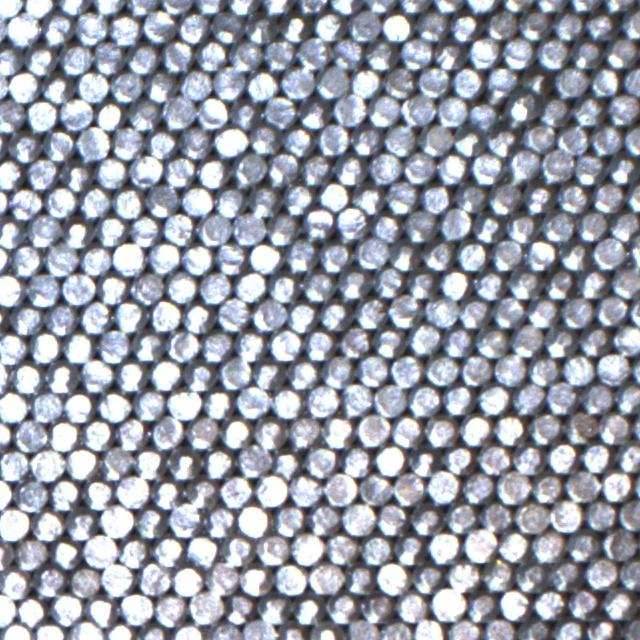tool: (459, 469, 494, 504), (462, 527, 497, 562), (43, 242, 78, 276), (444, 499, 478, 534), (218, 472, 252, 507), (584, 554, 618, 589), (479, 500, 514, 534), (14, 536, 48, 570), (232, 152, 266, 186), (548, 498, 582, 532), (409, 502, 443, 536), (540, 148, 574, 182), (44, 302, 78, 336), (496, 469, 530, 503), (510, 381, 544, 415), (566, 528, 600, 562), (341, 501, 375, 535), (216, 297, 250, 331), (82, 533, 116, 567), (331, 92, 365, 126), (407, 382, 441, 416), (602, 526, 636, 560), (96, 328, 130, 362), (290, 530, 324, 564), (565, 468, 599, 502), (488, 180, 522, 214), (254, 532, 288, 566), (484, 6, 518, 40), (459, 412, 493, 446), (136, 561, 170, 595), (80, 357, 114, 391), (338, 382, 372, 416), (238, 562, 272, 596), (424, 413, 458, 447), (178, 125, 212, 159), (159, 38, 193, 72), (388, 293, 422, 327), (100, 562, 134, 596), (314, 64, 348, 98), (531, 528, 565, 562), (304, 384, 338, 418), (355, 412, 389, 446), (336, 266, 370, 300), (601, 586, 635, 620), (390, 413, 424, 447), (564, 408, 598, 442), (398, 36, 432, 70), (182, 359, 216, 393), (430, 586, 464, 620), (204, 560, 238, 594), (99, 503, 133, 537), (255, 472, 288, 507), (425, 352, 458, 387), (476, 441, 511, 474), (472, 267, 505, 301), (561, 352, 594, 386), (323, 471, 356, 505), (442, 382, 475, 416), (544, 380, 578, 413), (306, 502, 340, 535), (400, 92, 433, 126), (78, 300, 112, 333), (358, 533, 392, 566), (237, 503, 270, 537), (145, 126, 178, 160), (446, 558, 479, 592), (522, 118, 555, 152), (272, 503, 305, 537), (62, 271, 95, 305), (324, 530, 357, 564), (476, 381, 509, 415), (320, 354, 353, 388), (30, 446, 63, 480), (273, 561, 307, 594), (598, 411, 632, 444), (15, 478, 48, 512), (338, 325, 372, 358), (525, 295, 558, 329), (308, 561, 342, 594), (390, 353, 423, 387), (347, 66, 381, 99), (233, 329, 267, 362), (541, 208, 574, 242), (143, 69, 177, 102), (334, 207, 368, 240), (573, 151, 606, 185), (528, 410, 561, 444), (599, 467, 632, 501), (198, 270, 231, 304), (359, 590, 393, 623), (357, 472, 391, 505), (110, 125, 143, 159), (384, 180, 418, 213), (29, 388, 62, 422), (285, 357, 319, 390), (132, 446, 165, 480), (266, 212, 300, 245), (148, 299, 182, 332), (548, 557, 581, 591), (98, 445, 131, 479), (565, 585, 599, 618), (13, 418, 46, 452), (166, 446, 199, 480), (366, 93, 399, 127), (527, 353, 560, 387), (8, 187, 42, 220), (199, 328, 232, 362), (583, 497, 617, 530), (48, 477, 81, 511), (132, 387, 166, 420), (372, 264, 405, 298), (128, 153, 162, 186), (301, 268, 334, 302), (373, 442, 407, 475), (402, 150, 435, 184), (44, 360, 78, 393), (427, 528, 460, 562), (125, 40, 158, 74), (252, 298, 285, 332), (339, 444, 373, 477), (467, 35, 501, 68), (354, 235, 388, 268), (284, 239, 317, 273), (76, 125, 109, 159), (464, 588, 497, 622), (26, 213, 59, 247), (252, 416, 286, 449), (409, 560, 444, 592), (511, 324, 544, 357), (116, 474, 149, 507), (494, 412, 527, 445), (373, 382, 406, 415), (459, 353, 492, 386), (470, 151, 503, 184), (95, 271, 128, 304), (270, 385, 303, 418), (130, 270, 163, 303), (560, 295, 593, 328), (10, 303, 43, 336), (195, 95, 228, 128), (218, 356, 251, 389), (384, 122, 417, 155), (575, 267, 608, 300), (167, 387, 200, 420), (270, 446, 303, 479), (165, 270, 198, 303), (67, 564, 100, 597), (596, 352, 629, 385), (368, 151, 401, 184), (133, 506, 166, 539), (571, 93, 604, 126), (131, 330, 164, 363), (31, 509, 64, 542), (196, 155, 229, 188), (185, 533, 218, 566), (59, 97, 92, 130), (115, 359, 148, 392), (236, 384, 269, 417), (419, 181, 452, 214), (263, 95, 296, 128), (142, 9, 175, 42), (91, 40, 124, 73), (9, 243, 42, 276), (267, 270, 300, 303), (11, 361, 44, 394), (591, 180, 624, 213), (42, 128, 75, 161), (266, 152, 299, 185), (170, 564, 203, 597), (28, 330, 61, 363), (393, 533, 426, 566), (587, 65, 620, 98), (113, 299, 146, 332), (247, 184, 280, 217), (375, 502, 408, 535), (220, 533, 253, 566), (194, 38, 227, 71), (237, 443, 270, 476), (319, 298, 352, 331), (64, 508, 97, 541), (119, 591, 152, 624), (94, 213, 127, 246), (356, 353, 389, 386), (32, 564, 65, 597), (178, 67, 211, 100), (190, 590, 223, 623), (403, 209, 436, 242), (112, 241, 145, 274), (184, 477, 217, 510), (491, 295, 524, 328), (6, 130, 39, 163), (579, 381, 612, 414), (80, 417, 113, 450), (203, 505, 236, 538), (536, 36, 569, 69), (248, 240, 281, 273), (147, 240, 180, 273), (491, 237, 524, 270), (507, 267, 540, 300), (61, 157, 94, 190), (481, 557, 514, 590), (580, 439, 613, 472), (26, 273, 59, 306), (214, 241, 247, 274), (558, 237, 591, 270), (127, 98, 160, 131), (304, 444, 337, 477), (506, 148, 539, 181), (319, 239, 352, 272), (25, 156, 58, 189), (115, 416, 148, 449), (607, 151, 640, 184), (512, 442, 545, 475), (503, 93, 536, 126), (150, 415, 183, 448), (85, 593, 118, 626), (202, 445, 235, 478), (82, 477, 116, 509), (516, 499, 548, 533), (498, 528, 530, 562), (166, 328, 198, 362), (94, 98, 126, 132), (374, 325, 406, 359), (420, 122, 452, 156), (544, 324, 576, 358), (476, 324, 508, 358), (376, 560, 408, 594), (162, 94, 194, 128), (214, 124, 246, 158), (149, 357, 181, 391), (95, 154, 127, 188), (424, 294, 458, 326), (392, 471, 424, 505), (322, 414, 354, 448), (118, 534, 150, 568), (62, 390, 96, 422), (425, 470, 459, 502), (288, 414, 320, 448), (354, 296, 388, 328), (586, 8, 618, 42), (438, 208, 472, 240), (514, 558, 546, 592), (520, 64, 554, 96), (151, 533, 183, 567), (46, 418, 80, 450), (257, 593, 291, 625), (608, 208, 640, 242), (303, 327, 335, 361), (48, 592, 82, 624), (364, 38, 398, 70), (278, 12, 312, 44), (408, 322, 440, 355), (435, 94, 467, 127), (498, 586, 530, 619), (58, 42, 91, 74), (269, 327, 301, 360), (552, 9, 585, 41), (395, 589, 427, 622), (167, 504, 200, 536), (317, 180, 350, 212), (7, 70, 40, 102), (317, 122, 349, 155), (246, 68, 278, 101), (65, 446, 97, 479), (577, 324, 610, 356), (538, 95, 570, 128), (248, 123, 280, 156), (233, 270, 266, 302), (494, 352, 526, 385), (297, 98, 330, 130), (146, 183, 179, 215), (440, 267, 472, 300), (590, 122, 622, 155), (299, 153, 331, 186), (62, 331, 94, 364), (198, 212, 230, 245), (435, 152, 468, 184), (288, 474, 321, 506), (182, 302, 215, 334), (110, 68, 142, 101), (484, 66, 516, 99), (180, 183, 213, 215), (41, 72, 74, 104), (468, 97, 500, 130), (442, 324, 474, 357), (457, 296, 490, 328), (417, 65, 449, 98), (450, 65, 482, 98), (575, 209, 608, 241), (214, 185, 246, 218), (369, 210, 402, 242), (232, 211, 264, 244), (333, 154, 366, 186), (416, 9, 448, 42), (344, 563, 376, 596), (213, 65, 245, 98), (546, 440, 578, 473), (312, 9, 345, 41), (163, 212, 196, 244), (381, 9, 413, 42), (501, 36, 534, 68), (282, 181, 314, 214), (280, 66, 312, 99), (112, 186, 145, 218), (449, 10, 482, 42), (296, 37, 328, 70), (6, 12, 38, 45), (49, 536, 81, 569), (78, 185, 110, 218), (522, 182, 555, 214), (556, 123, 589, 155), (406, 268, 439, 300), (331, 36, 363, 69), (524, 238, 557, 270), (74, 11, 106, 44), (570, 37, 602, 70), (543, 266, 575, 299), (604, 36, 637, 68), (202, 387, 234, 420), (212, 10, 244, 43), (128, 213, 160, 246), (422, 238, 455, 270), (154, 592, 186, 625), (302, 207, 334, 240), (532, 586, 564, 619), (14, 593, 46, 626), (606, 92, 638, 125), (108, 12, 140, 45), (41, 12, 73, 45), (556, 180, 588, 213), (228, 39, 260, 72), (389, 239, 422, 271), (177, 10, 210, 42), (432, 39, 465, 71), (456, 237, 488, 270), (25, 98, 57, 131), (262, 38, 295, 70), (442, 442, 474, 475), (252, 357, 284, 390), (505, 210, 537, 243), (24, 43, 56, 76), (61, 216, 94, 248), (454, 180, 486, 213), (519, 8, 551, 40), (282, 124, 314, 156), (350, 124, 382, 156), (44, 185, 76, 217), (348, 9, 380, 41), (98, 389, 130, 421), (286, 300, 318, 332), (163, 156, 195, 188), (79, 243, 111, 275), (181, 242, 213, 274), (595, 294, 627, 326), (594, 236, 626, 268), (382, 66, 414, 98), (554, 66, 586, 98), (220, 416, 252, 448), (352, 182, 384, 214), (472, 212, 504, 244), (407, 445, 439, 477), (223, 592, 255, 624), (292, 593, 324, 625), (150, 477, 182, 509), (186, 416, 218, 448), (76, 70, 108, 102), (326, 592, 358, 624), (531, 470, 563, 502), (228, 97, 260, 129), (486, 125, 519, 156), (0, 506, 29, 541), (453, 125, 484, 157), (244, 13, 276, 44), (611, 263, 640, 297), (0, 566, 30, 598), (612, 322, 640, 356), (0, 448, 29, 480), (0, 389, 28, 422), (613, 381, 640, 414), (0, 332, 27, 364), (0, 216, 26, 249), (0, 99, 25, 133), (583, 615, 617, 640), (615, 439, 640, 472), (516, 616, 550, 640), (412, 616, 446, 640), (0, 272, 24, 305), (0, 156, 23, 190), (344, 617, 378, 640), (550, 617, 584, 640), (378, 617, 412, 640), (482, 616, 514, 640), (447, 617, 480, 640), (618, 497, 640, 531), (618, 555, 640, 589), (67, 619, 102, 640), (0, 43, 22, 76), (242, 618, 275, 640), (206, 620, 240, 640), (170, 621, 204, 640), (621, 6, 640, 40), (32, 621, 66, 640), (136, 622, 170, 640), (102, 622, 136, 640), (308, 621, 340, 640), (276, 621, 308, 640), (22, 0, 54, 18), (0, 622, 32, 640), (623, 122, 640, 155), (623, 64, 640, 96), (226, 0, 259, 16), (260, 0, 294, 15), (0, 592, 15, 626), (625, 179, 640, 212), (56, 0, 89, 15), (329, 0, 362, 15), (125, 0, 157, 15), (158, 0, 192, 14), (91, 0, 124, 14), (295, 0, 328, 14), (193, 0, 226, 14), (398, 0, 430, 13), (364, 0, 396, 13), (0, 0, 21, 17)
